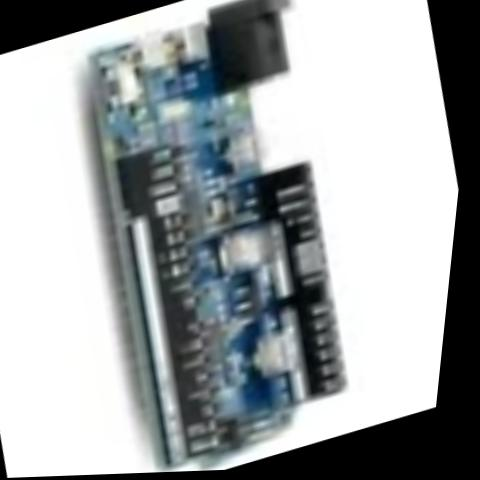Arduino-Zero: (17, 0, 437, 478)
